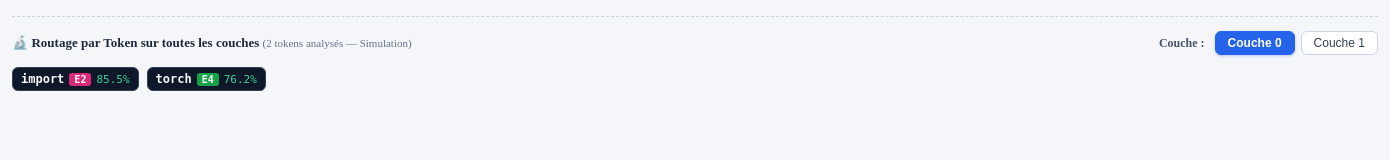
Test: TokenRoutingVisualizer Component › switches MoE layers via layer badge buttons and updates dominant experts
Check: the text "E2" is shown, box [69,72,92,86]
// Click badge Couche 1
Click the button with test id "layer-tab-1": x=1339, y=43 [1301,31,1378,55]
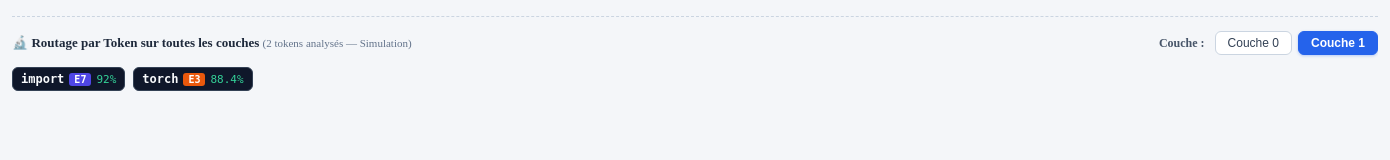
Check: the text "E7" is shown, box [69,72,92,86]
Check: the text "92%" is shown, box [96,72,116,86]
Check: the text "E3" is shown, box [183,72,206,86]
